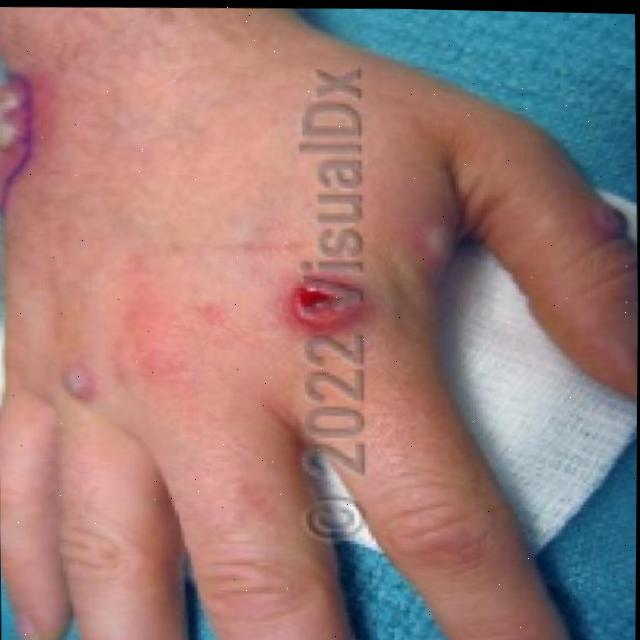Eczema: (0, 80, 60, 195), (291, 271, 367, 323)
